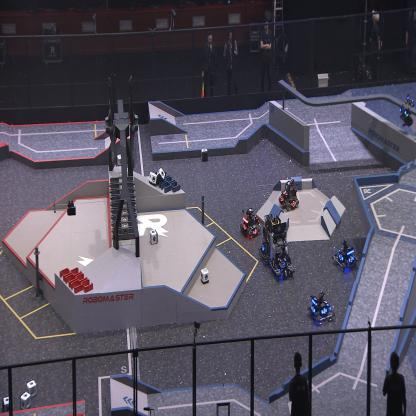car: (268, 222, 296, 281), (258, 213, 281, 263), (307, 290, 335, 324), (333, 238, 358, 271), (278, 178, 299, 212), (240, 206, 262, 238)
